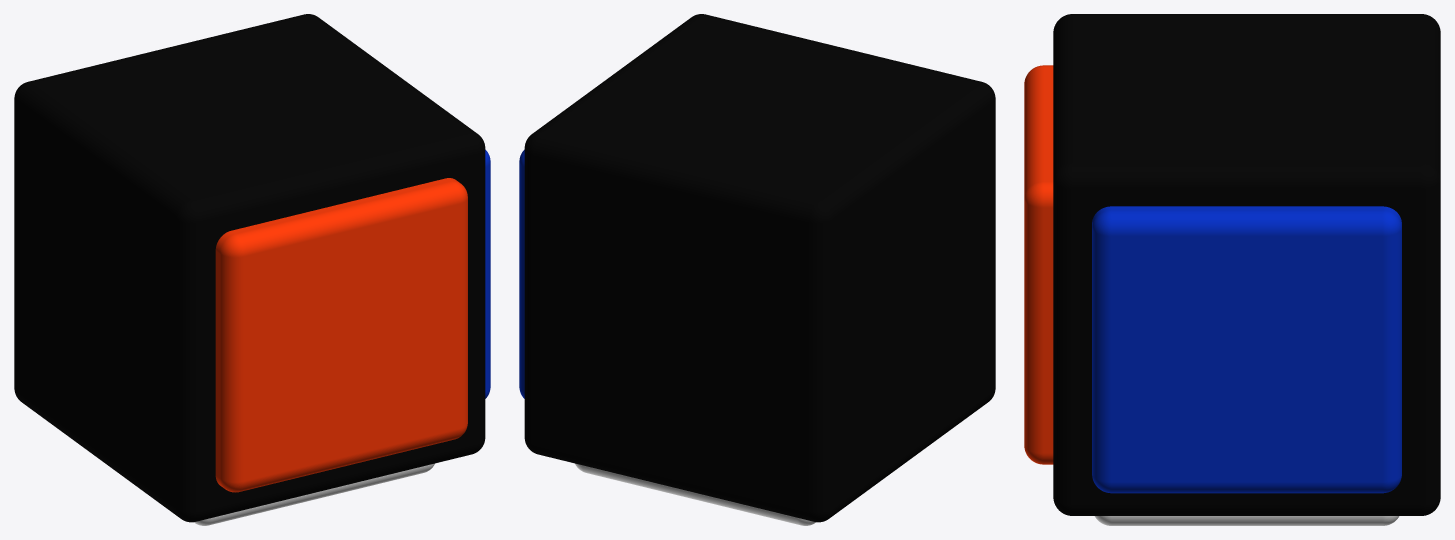
The model's file is cubinho(-1, -1, 1).obj.
3 views of the same model, side by side, from view 1: azimuth 30°, elevation 25°; view 2: azimuth 150°, elevation 25°; view 3: azimuth 270°, elevation 25° (orthographic). The views are drawn at different scales.
Parts seen in each view (by area): view 1: (-1,_-1,_1); view 2: (-1,_-1,_1); view 3: (-1,_-1,_1).
Part boxes in pixels (bbox=[...]): (-1,_-1,_1): bbox=[14, 14, 490, 525]; (-1,_-1,_1): bbox=[519, 14, 995, 525]; (-1,_-1,_1): bbox=[1024, 14, 1440, 525].
Bounding box in the file's own units: 2.15 × 2.15 × 2.15.
